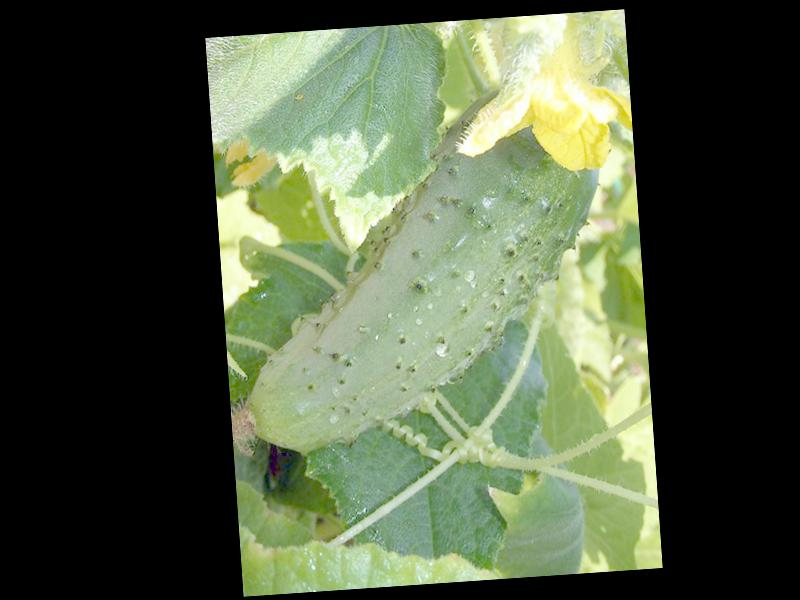Cucumber: (210, 82, 616, 457)
